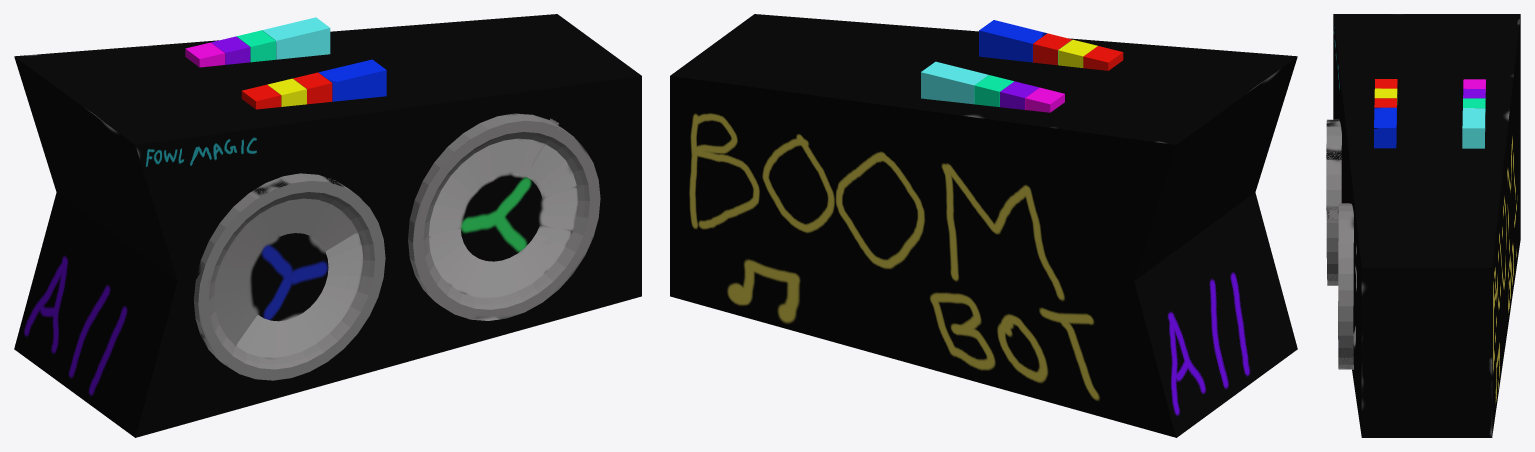
The model's file is boomBot_new.fbx.
3 views of the same model, side by side, from view 1: azimuth 30°, elevation 25°; view 2: azimuth 150°, elevation 25°; view 3: azimuth 270°, elevation 25° (orthographic). The views are drawn at different scales.
Parts seen in each view (by area): view 1: Base, Buttons; view 2: Base, Buttons; view 3: Base, Buttons.
Part boxes in pixels (bbox=[...]): Base: bbox=[14, 14, 641, 437]; Buttons: bbox=[185, 17, 386, 109]; Base: bbox=[670, 14, 1297, 437]; Buttons: bbox=[921, 20, 1123, 112]; Base: bbox=[1326, 14, 1520, 437]; Buttons: bbox=[1374, 79, 1485, 148].
Size of the model in its own units: 300 by 160 by 124.
Materials: 2 (2 with a texture image).
